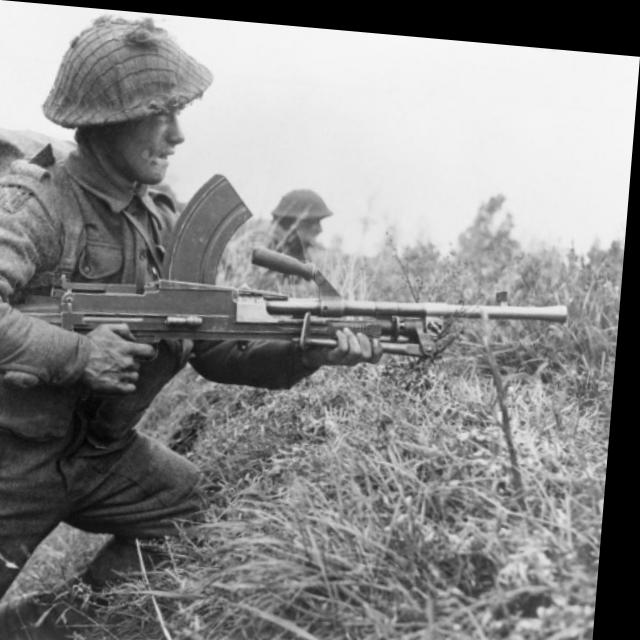other: (0, 6, 252, 596)
